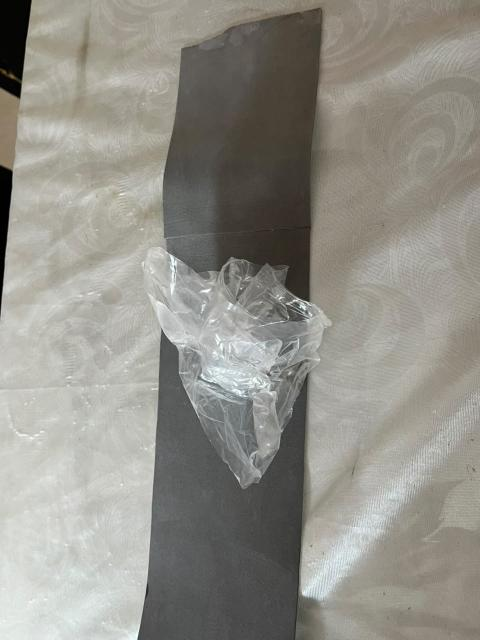LDPE: (119, 203, 384, 512)
